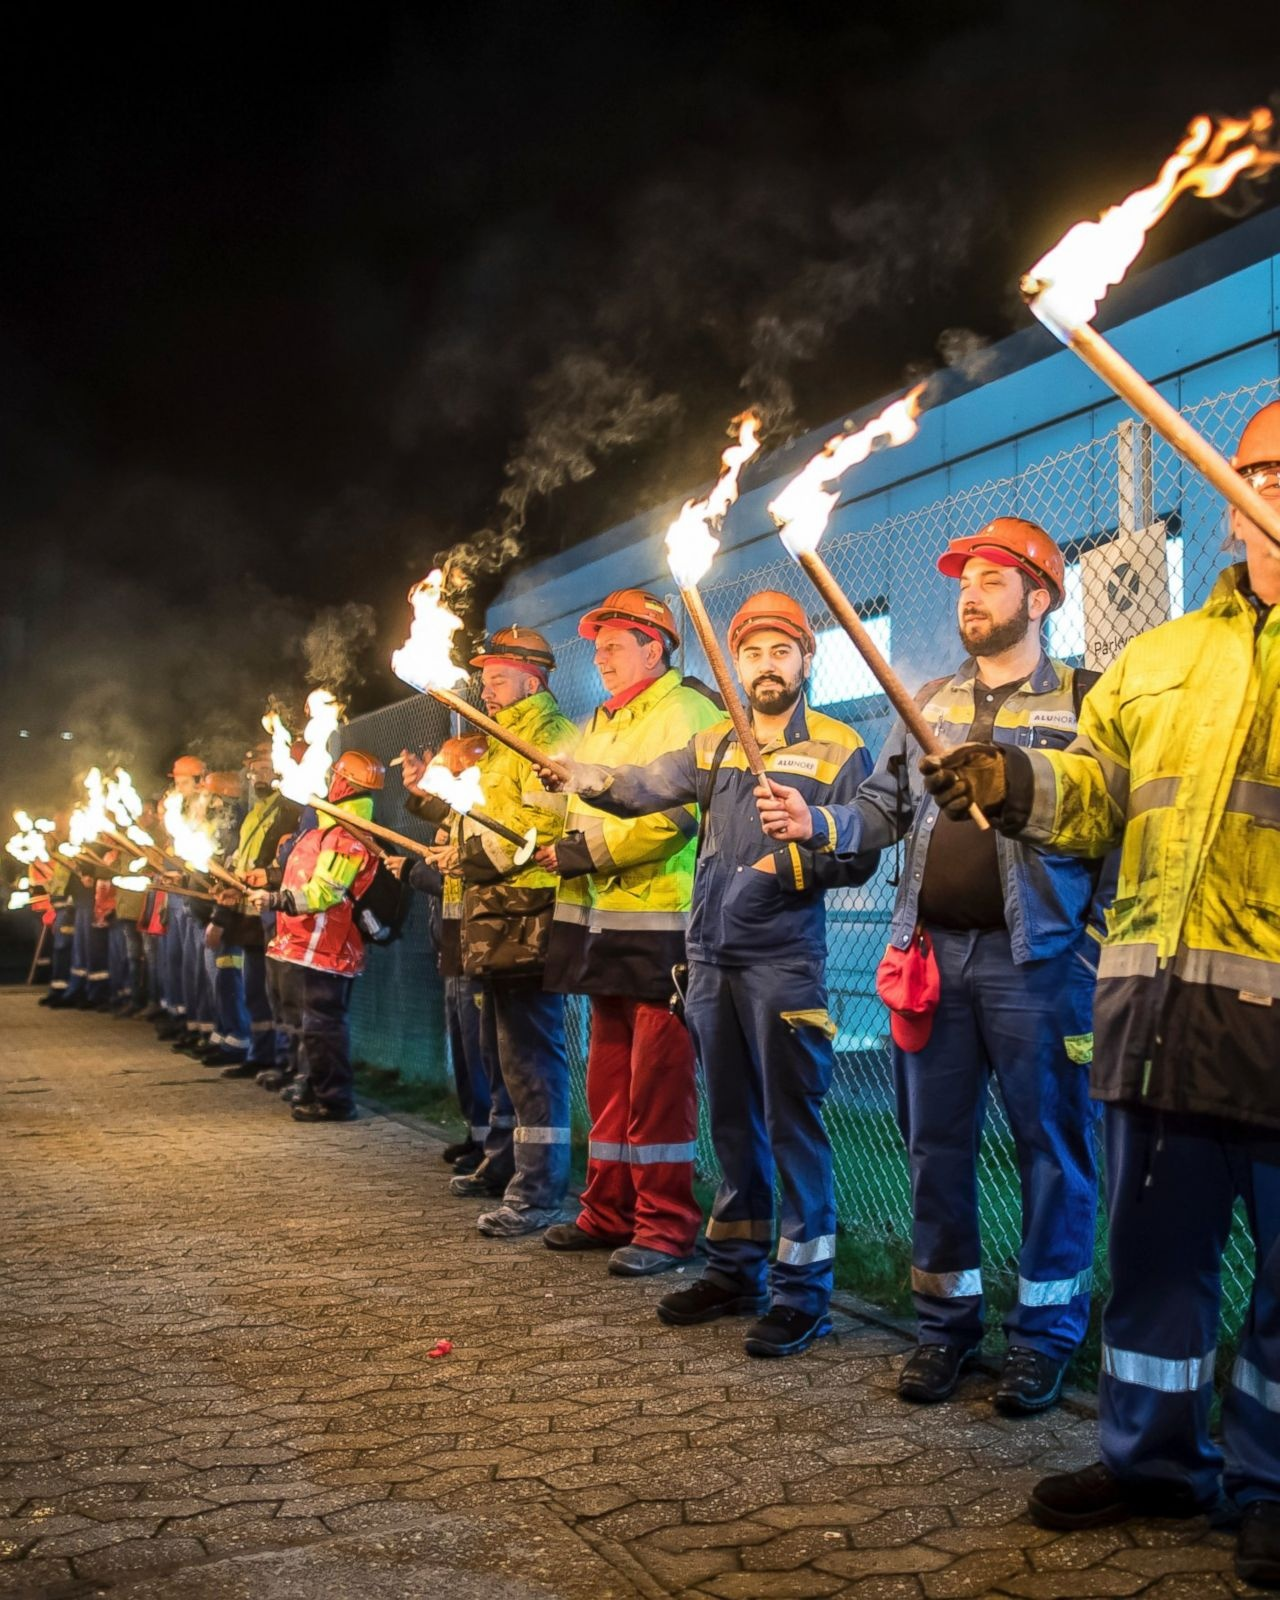red: (927, 509, 1071, 653), (722, 588, 822, 714), (1217, 398, 1280, 583), (586, 584, 680, 694), (475, 626, 555, 712), (324, 748, 387, 803), (199, 769, 243, 820), (246, 741, 280, 794), (171, 756, 205, 795)
